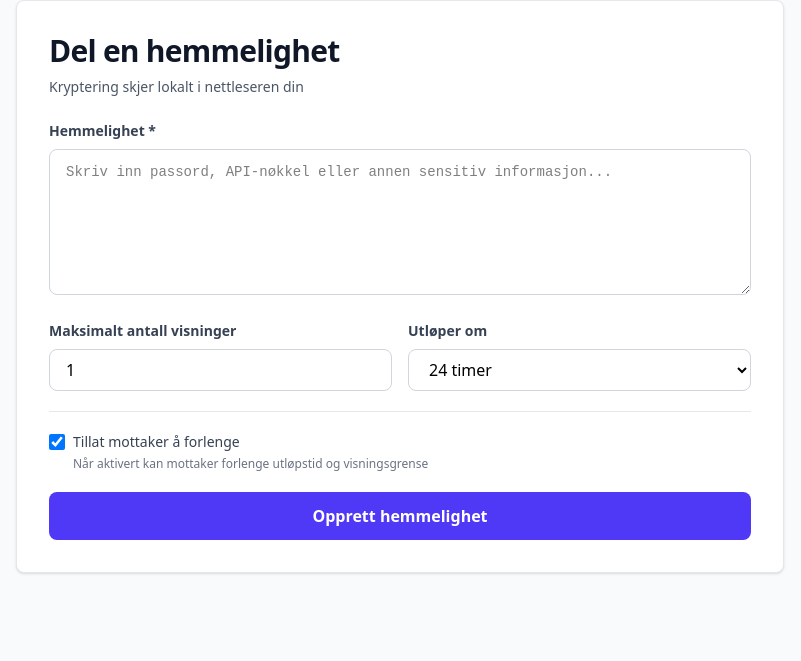
CreateSecret › shows error message when API request fails
In the text box labelled "Hemmelighet *": (400, 222) [49, 149, 751, 295], type "My secret message"
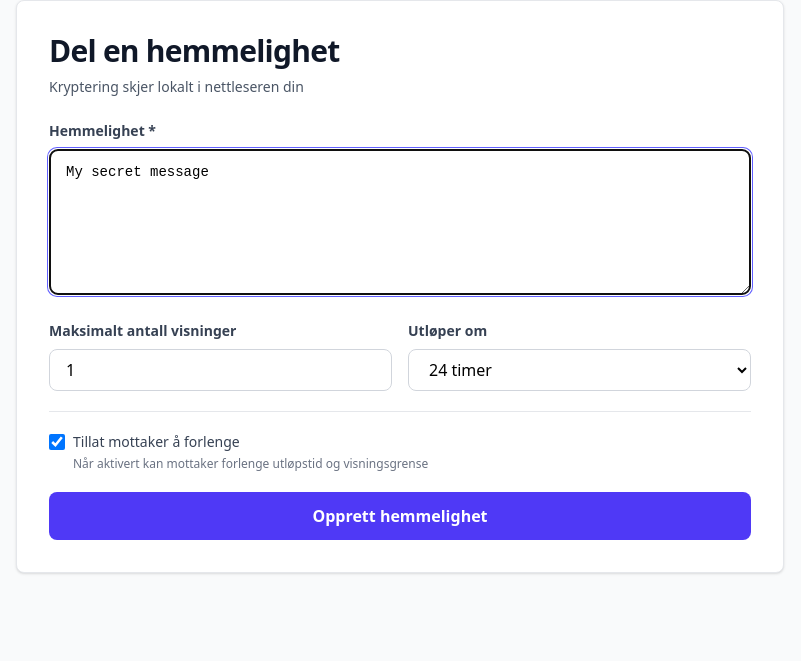
Click the button "Opprett hemmelighet": (400, 516) [49, 492, 751, 540]
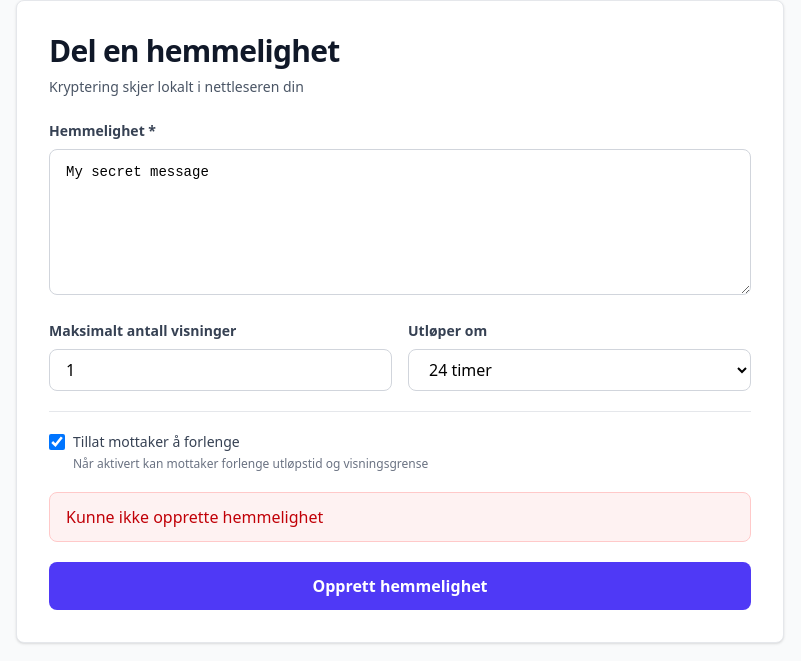
expect the text "Kunne ikke opprette hemmelighet" is shown: met, box [49, 492, 751, 542]
